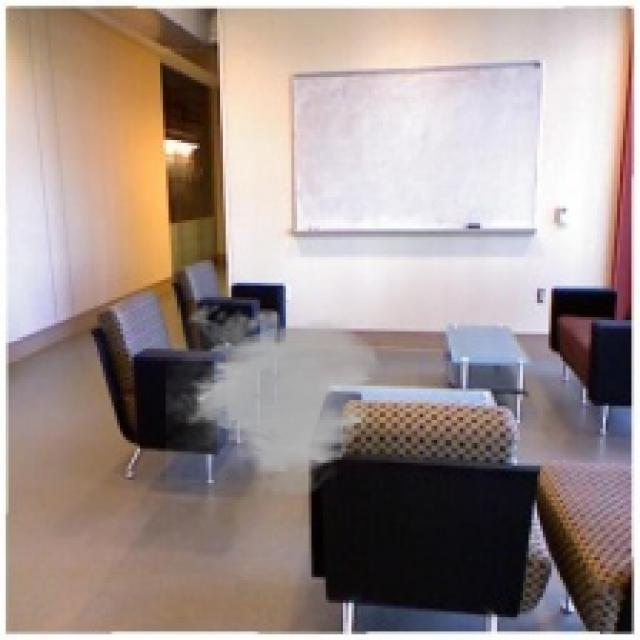Smoke: (166, 297, 383, 503)
